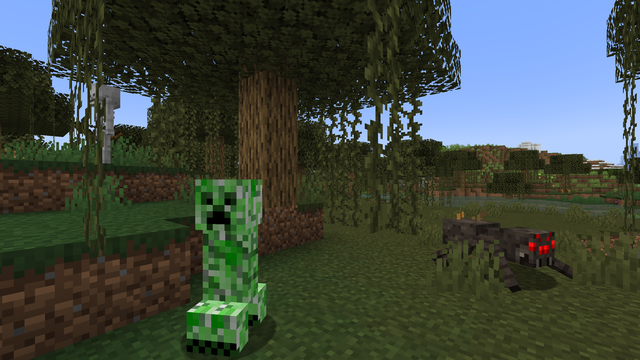araignees: (445, 213, 554, 296)
creepers: (190, 171, 271, 358)
squelettes: (86, 81, 121, 165)
